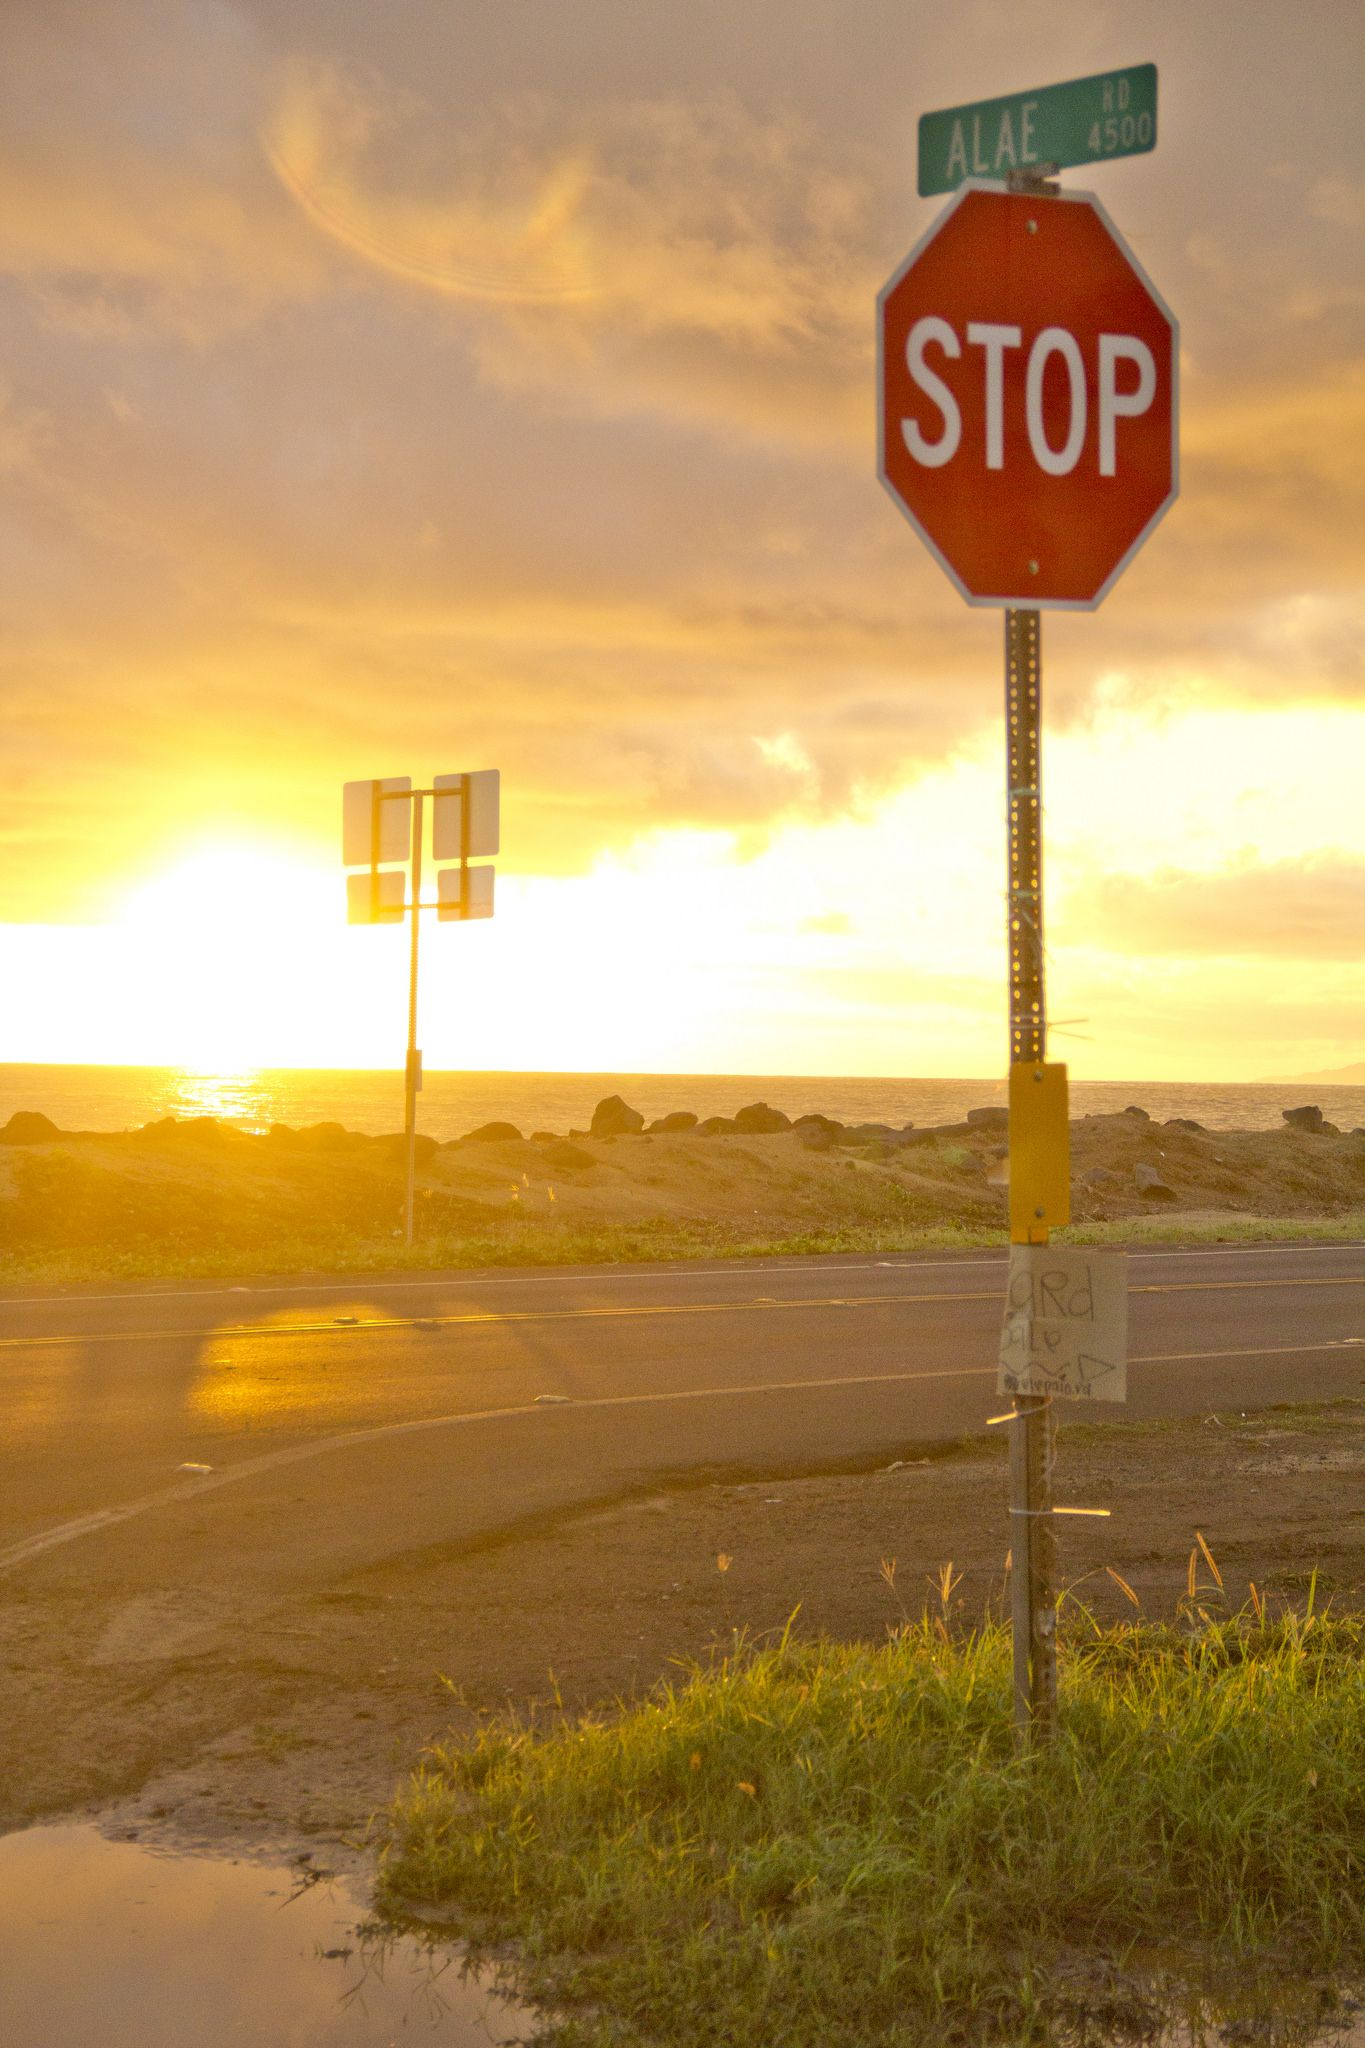stop: (881, 276, 1214, 609)
